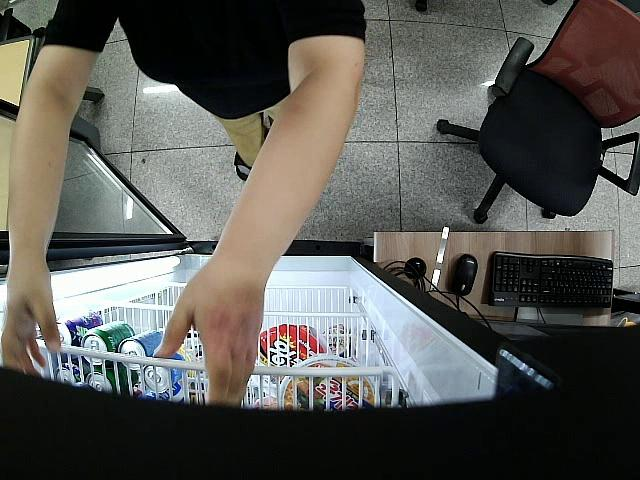00_hand: (153, 262, 265, 411), (0, 251, 62, 379)
